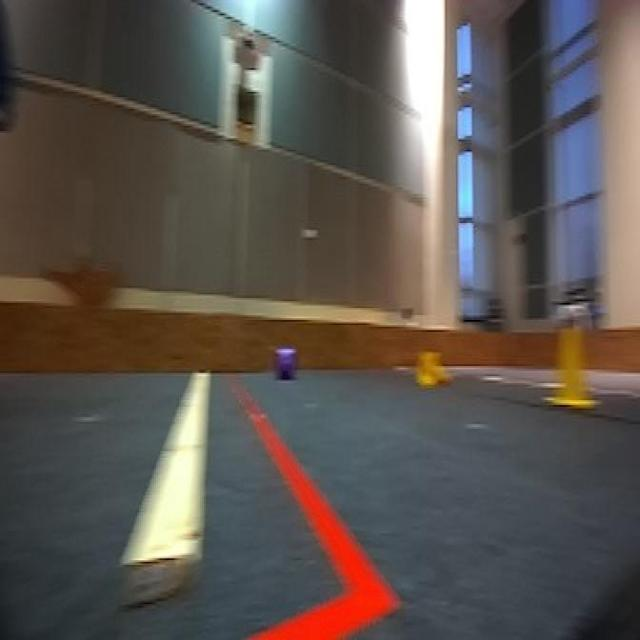frc_cone: (546, 320, 596, 412), (412, 344, 456, 391)
frc_cube: (276, 348, 296, 382)
